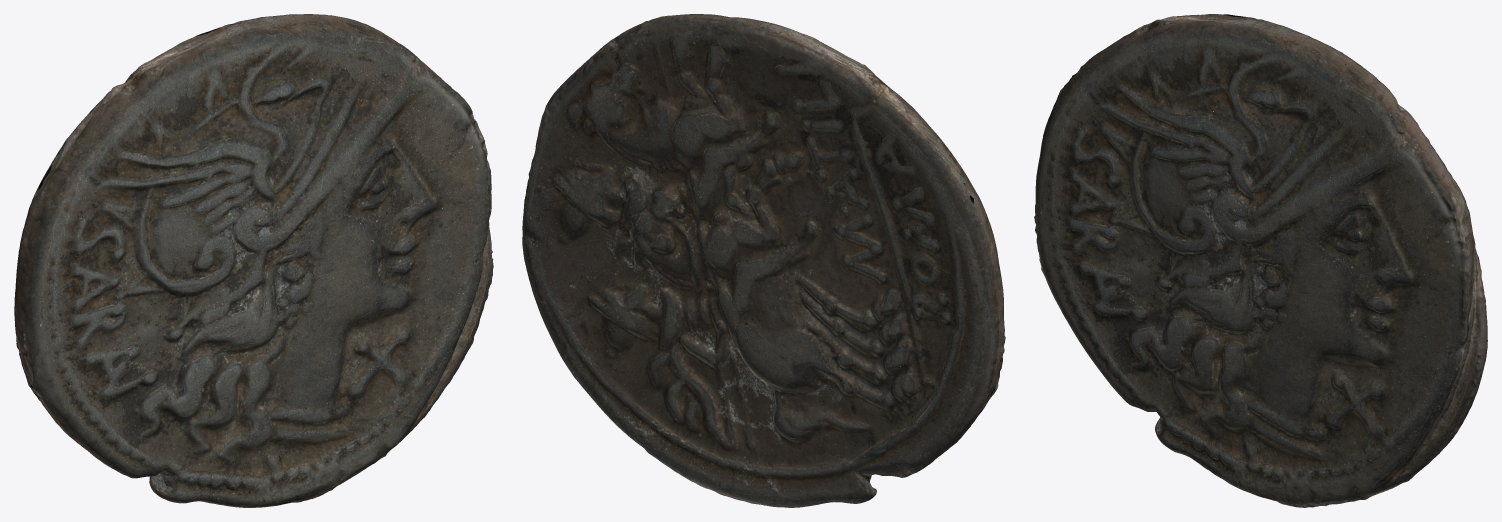
File: silver_denarius_roman_republic.glb
3 renders of one model, left to right at view 1: azimuth 30°, elevation 25°; view 2: azimuth 150°, elevation 25°; view 3: azimuth 330°, elevation 25°, orthographic. The views are drawn at different scales.
Parts seen in each view (by area): view 1: Model; view 2: Model; view 3: Model.
Part boxes in pixels (<box>): Model: <box>14,14,493,507</box>; Model: <box>522,14,1005,507</box>; Model: <box>1034,14,1487,507</box>.
Bounding box in the file's own units: 0.3107 × 0.303 × 0.0342.
Materials: 1 (1 with a texture image).
